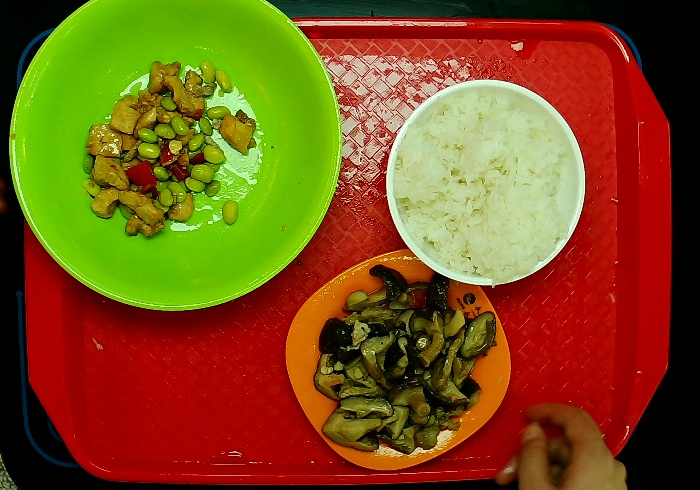YKMZ-Fan_Wan: (383, 77, 587, 288)
YKMZ-Ju_Se_Fang_Die: (281, 245, 514, 473)
YKMZ-Lv_Se_Tang_Wan: (9, 1, 342, 311)
